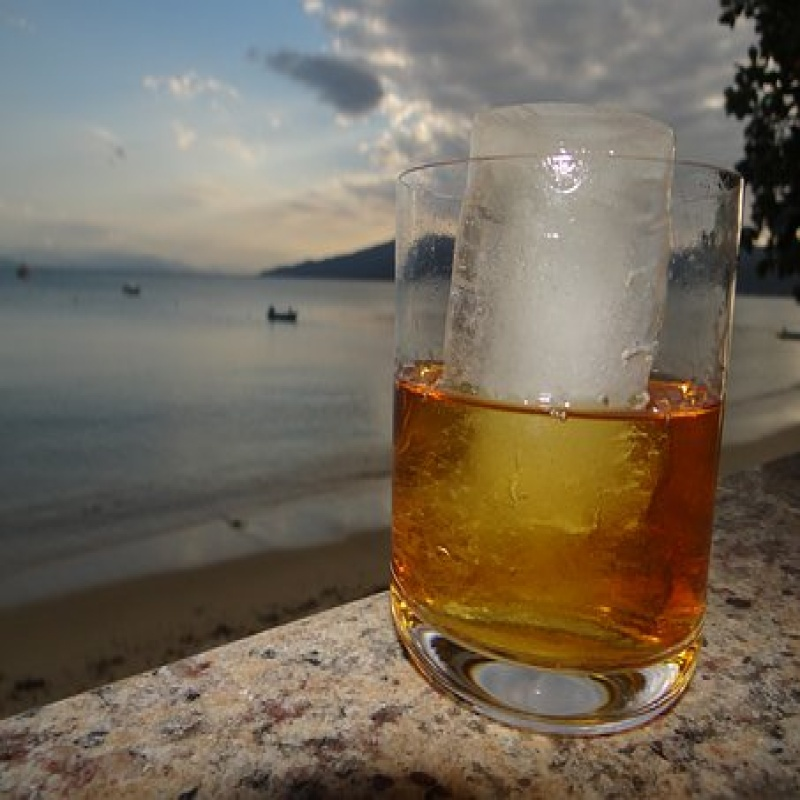whiskey: (372, 153, 721, 722)
